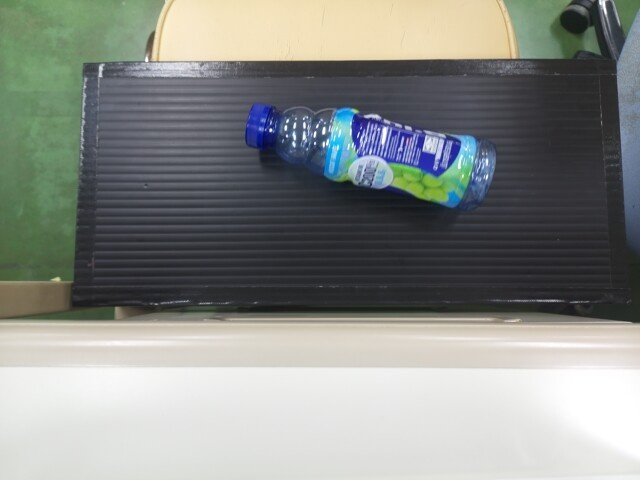plastic_bottle: (238, 99, 497, 212)
